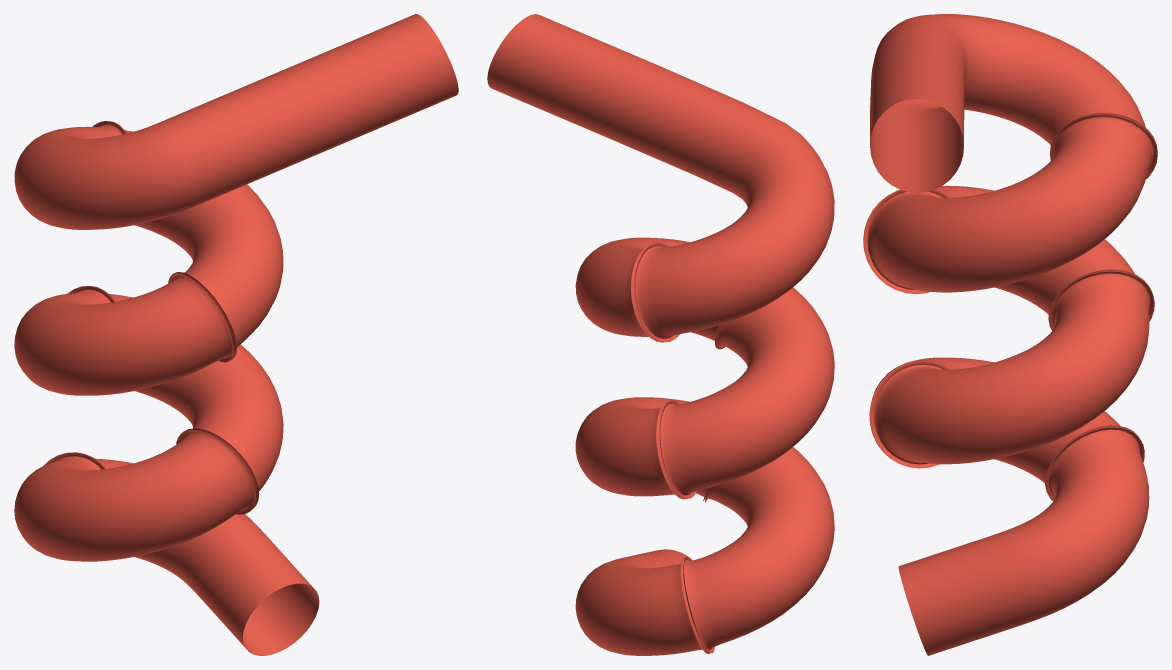
Rendered from slider.fbx.
3 renders of one model, left to right at view 1: azimuth 30°, elevation 25°; view 2: azimuth 150°, elevation 25°; view 3: azimuth 270°, elevation 25°, orthographic. The views are drawn at different scales.
Parts seen in each view (by area): view 1: Cylinder.002; view 2: Cylinder.002; view 3: Cylinder.002.
Boxes of the visible parts, bbox=[...] form: Cylinder.002: bbox=[14, 14, 458, 655]; Cylinder.002: bbox=[487, 14, 834, 655]; Cylinder.002: bbox=[863, 14, 1157, 655].
Bounding box in the file's own units: 473 × 736 × 314.
